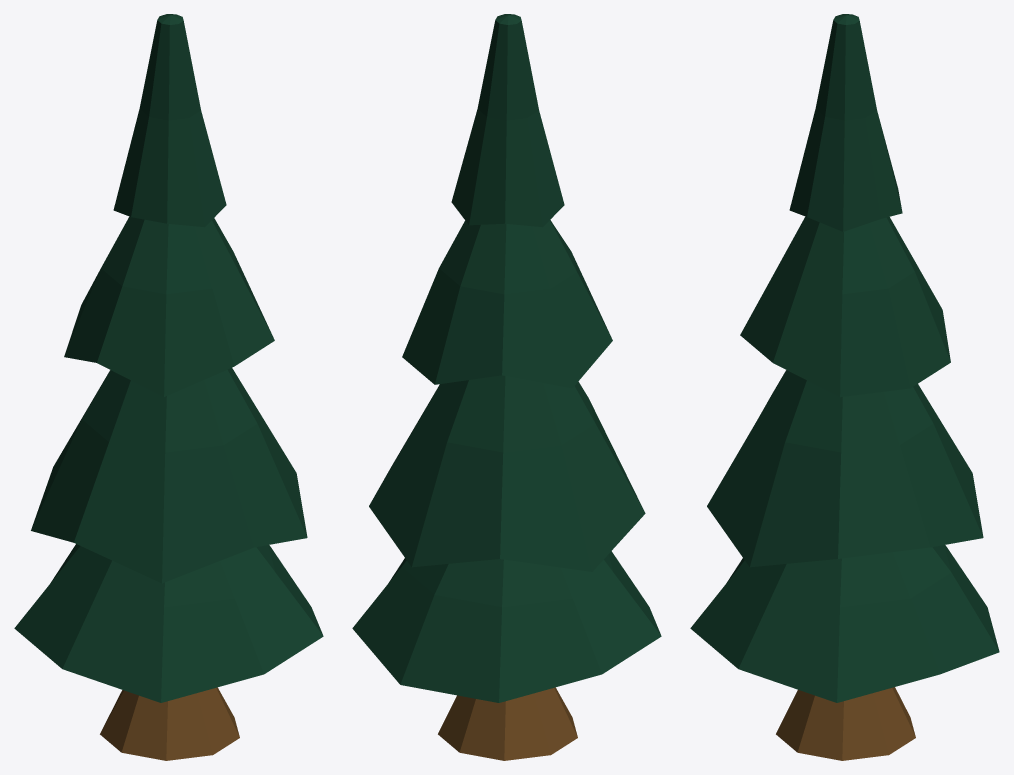
The model's file is Tree_3.fbx.
3 views of the same model, side by side, from view 1: azimuth 30°, elevation 25°; view 2: azimuth 150°, elevation 25°; view 3: azimuth 270°, elevation 25° (orthographic).
Parts seen in each view (by area): view 1: Tree_4; view 2: Tree_4; view 3: Tree_4.
Boxes of the visible parts, bbox=[...] form: Tree_4: bbox=[14, 14, 323, 760]; Tree_4: bbox=[352, 14, 661, 760]; Tree_4: bbox=[690, 14, 999, 760].
Size of the model in its own units: 1.85 by 1.86 by 4.76.
